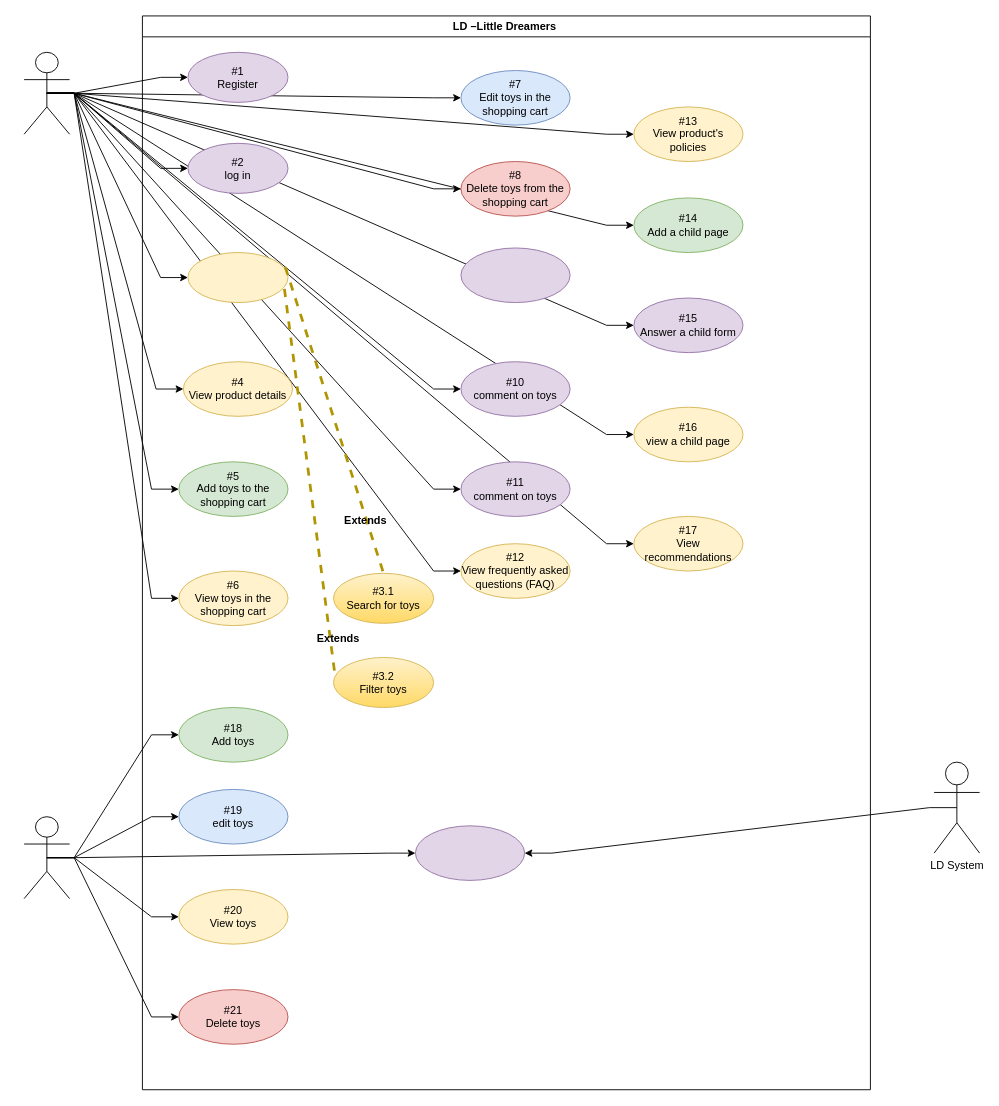
The diagram is 999 pixels wide and 1106 high, and some of its shapes have lost their labels. Each missing label, with the box of its shape:
#22 Send an email of toys statistics.: (415, 825, 525, 880)
#3 Browse toys: (187, 252, 288, 303)
#9 Rate toys: (460, 247, 570, 303)
Store owner: (23, 816, 70, 899)
User(Parent): (23, 51, 70, 134)
